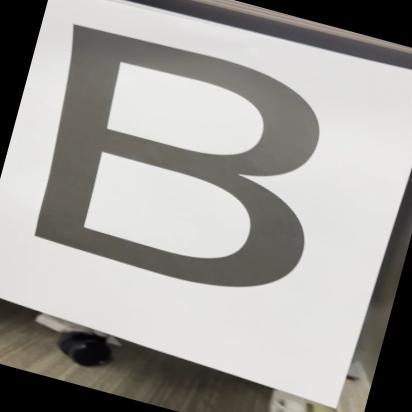seat: (0, 5, 399, 330)
